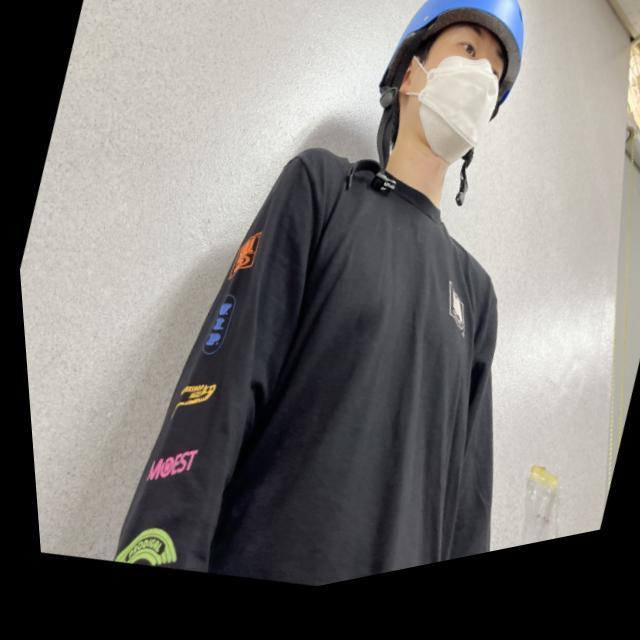Helmet: (358, 0, 542, 187)
